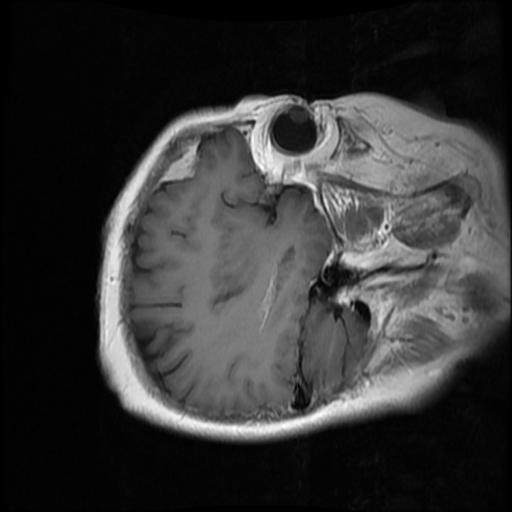meningioma: (159, 141, 199, 182)
